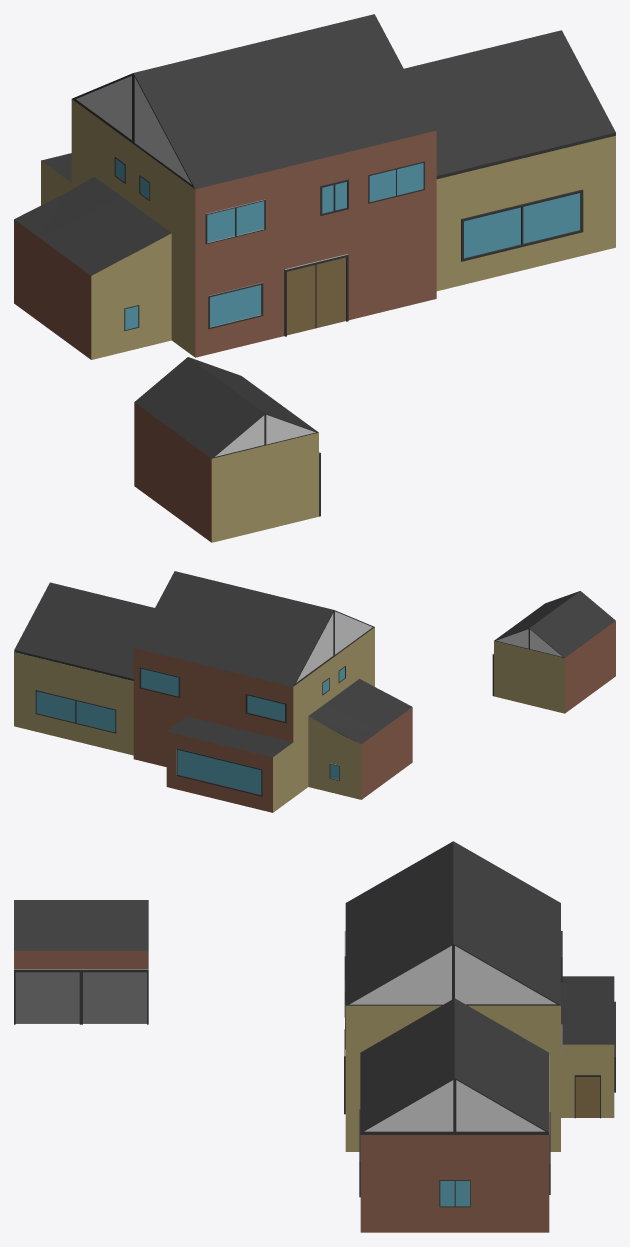
Rendered from House big.fbx.
3 renders of one model, top to bottom at view 1: azimuth 30°, elevation 25°; view 2: azimuth 150°, elevation 25°; view 3: azimuth 270°, elevation 25°, orthographic. The views are drawn at different scales.
Parts seen in each view (by area): view 1: pCube7; view 2: pCube7; view 3: pCube7.
Part boxes in pixels (x1,y1,x2,y2): pCube7: (14, 14, 615, 542); pCube7: (14, 571, 615, 812); pCube7: (14, 841, 615, 1232).
Size of the model in its own units: 22.54 by 8.65 by 22.34.
